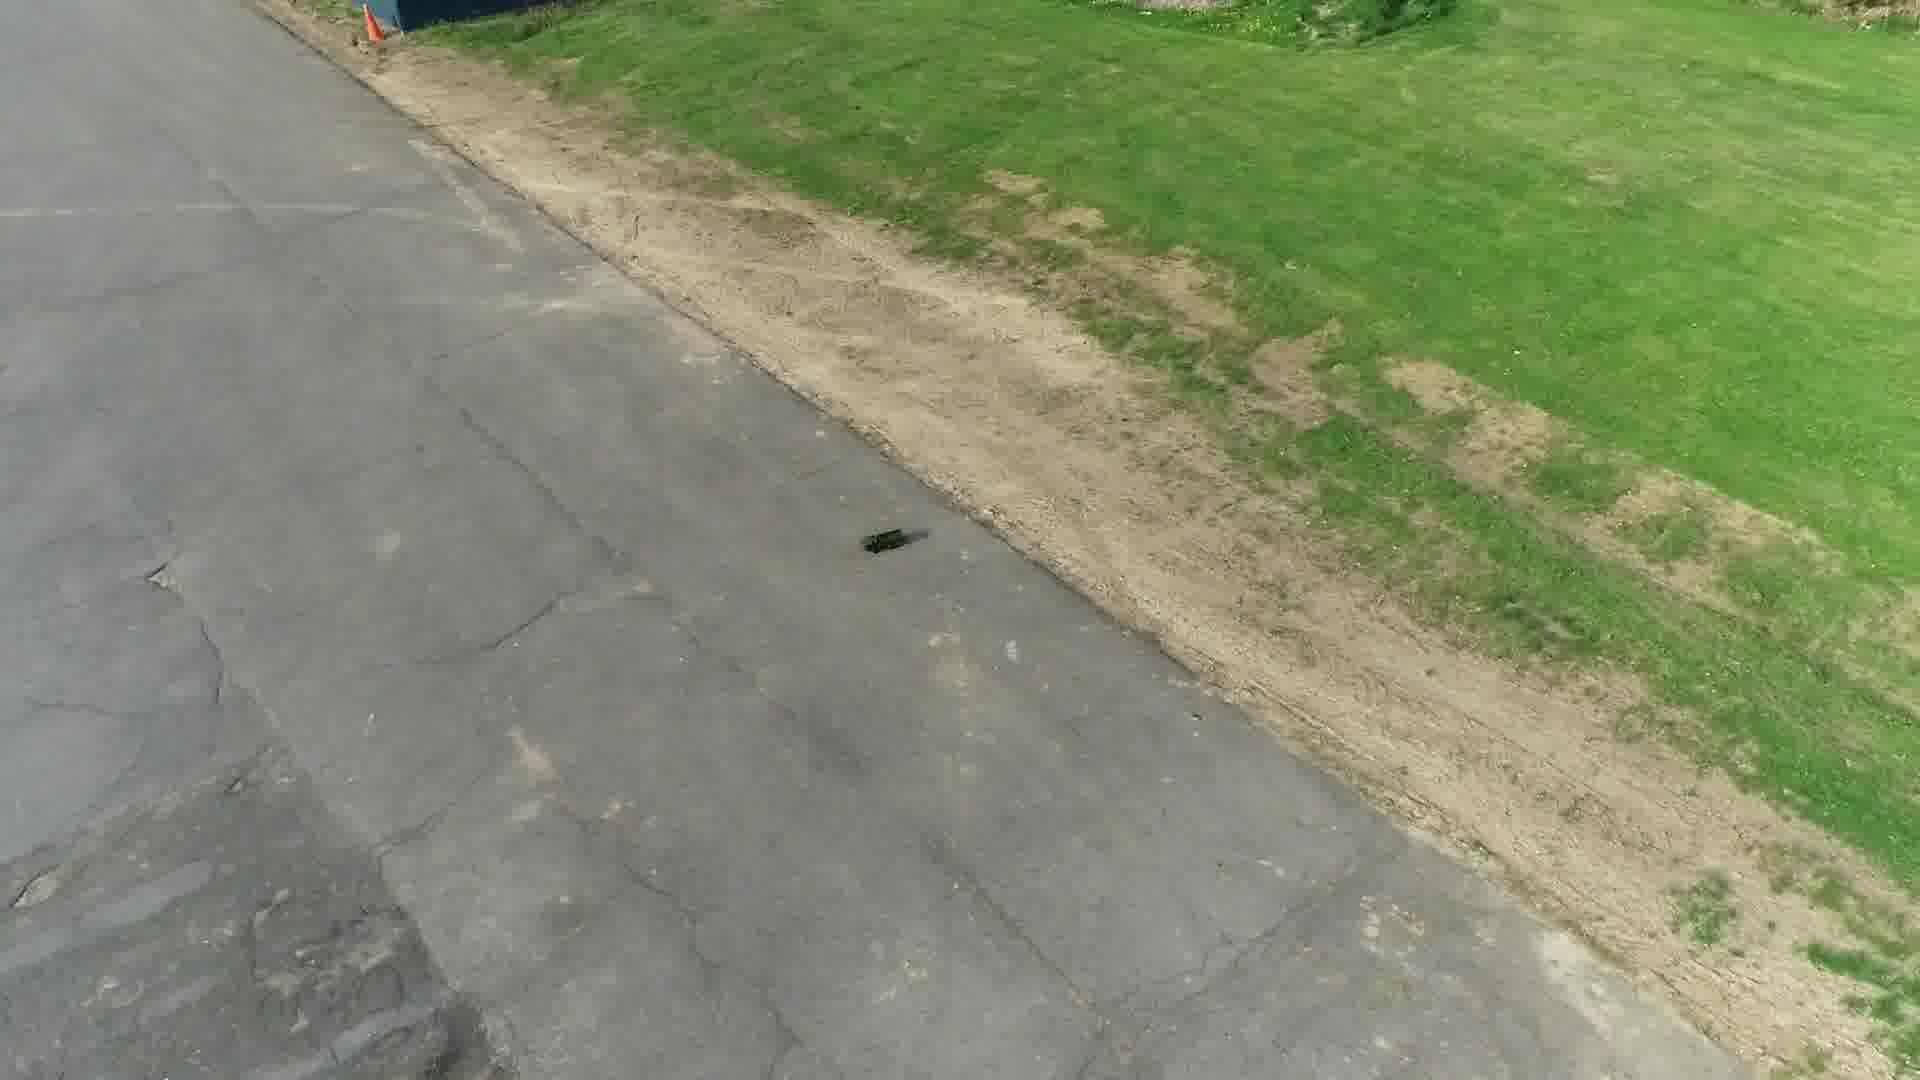transporter9: (858, 529, 909, 556)
